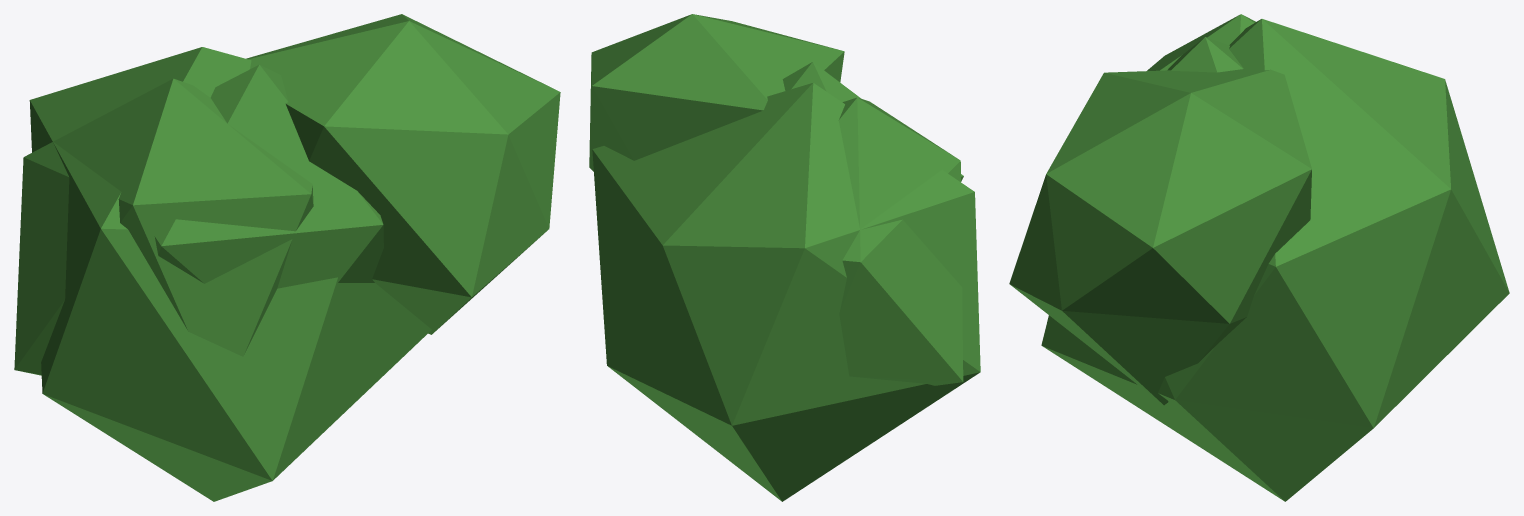
File: SM_Dressing_Bush.fbx
3 renders of one model, left to right at view 1: azimuth 30°, elevation 25°; view 2: azimuth 150°, elevation 25°; view 3: azimuth 270°, elevation 25°, orthographic. The views are drawn at different scales.
Parts seen in each view (by area): view 1: SM_Dressing_Bush; view 2: SM_Dressing_Bush; view 3: SM_Dressing_Bush.
Part boxes in pixels (x1=…): SM_Dressing_Bush: x1=14, y1=14, x2=560, y2=501; SM_Dressing_Bush: x1=589, y1=14, x2=980, y2=501; SM_Dressing_Bush: x1=1009, y1=14, x2=1509, y2=501.
Size of the model in its own units: 0.7572 by 0.7185 by 0.6765.
